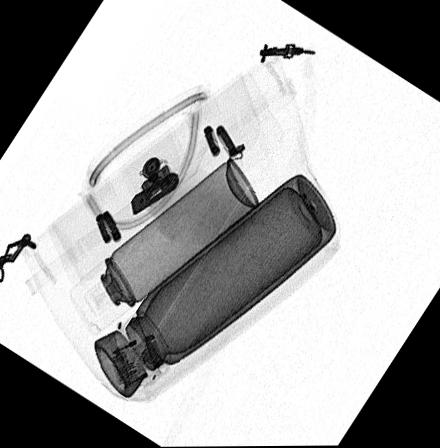Sprayer: (70, 156, 259, 335)
